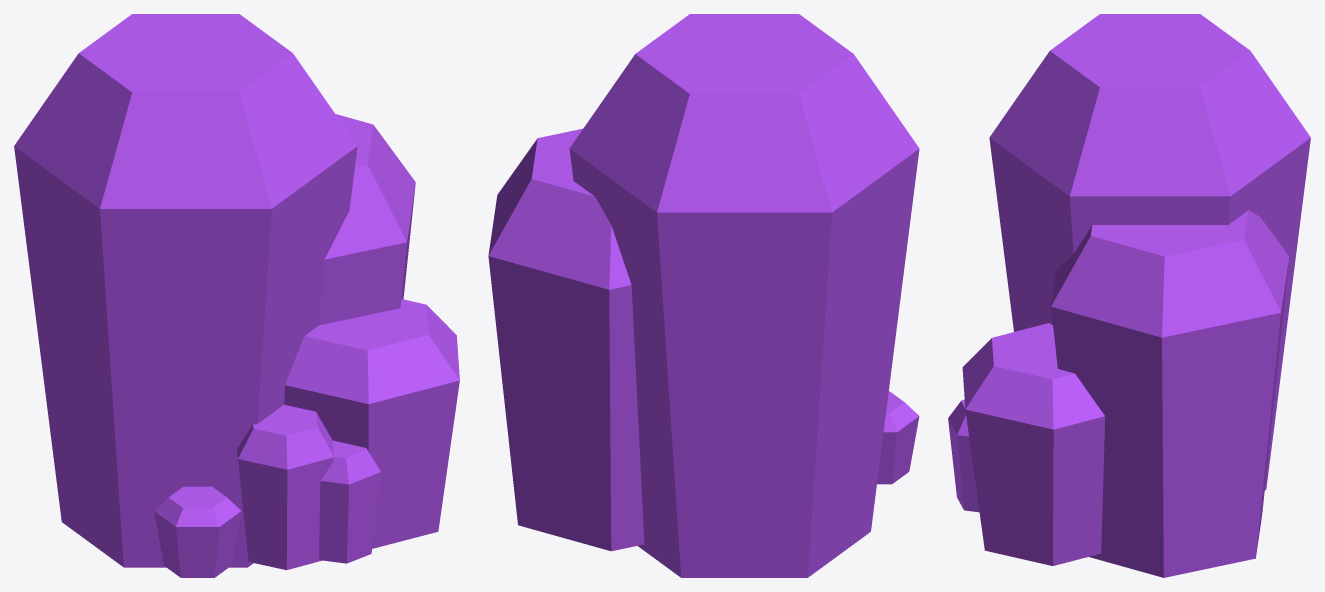
Rendered from Wall_Tile_Gems.fbx.
3 renders of one model, left to right at view 1: azimuth 30°, elevation 25°; view 2: azimuth 150°, elevation 25°; view 3: azimuth 270°, elevation 25°, orthographic. The views are drawn at different scales.
Visible parts, largest first — view 1: Wall_Tile_Gems; view 2: Wall_Tile_Gems; view 3: Wall_Tile_Gems.
Boxes of the visible parts, x1,y1,x2,y2 form: Wall_Tile_Gems: (14,14,459,577); Wall_Tile_Gems: (488,14,919,577); Wall_Tile_Gems: (948,14,1310,577).
Size of the model in its own units: 2.39 by 2.19 by 2.93.
